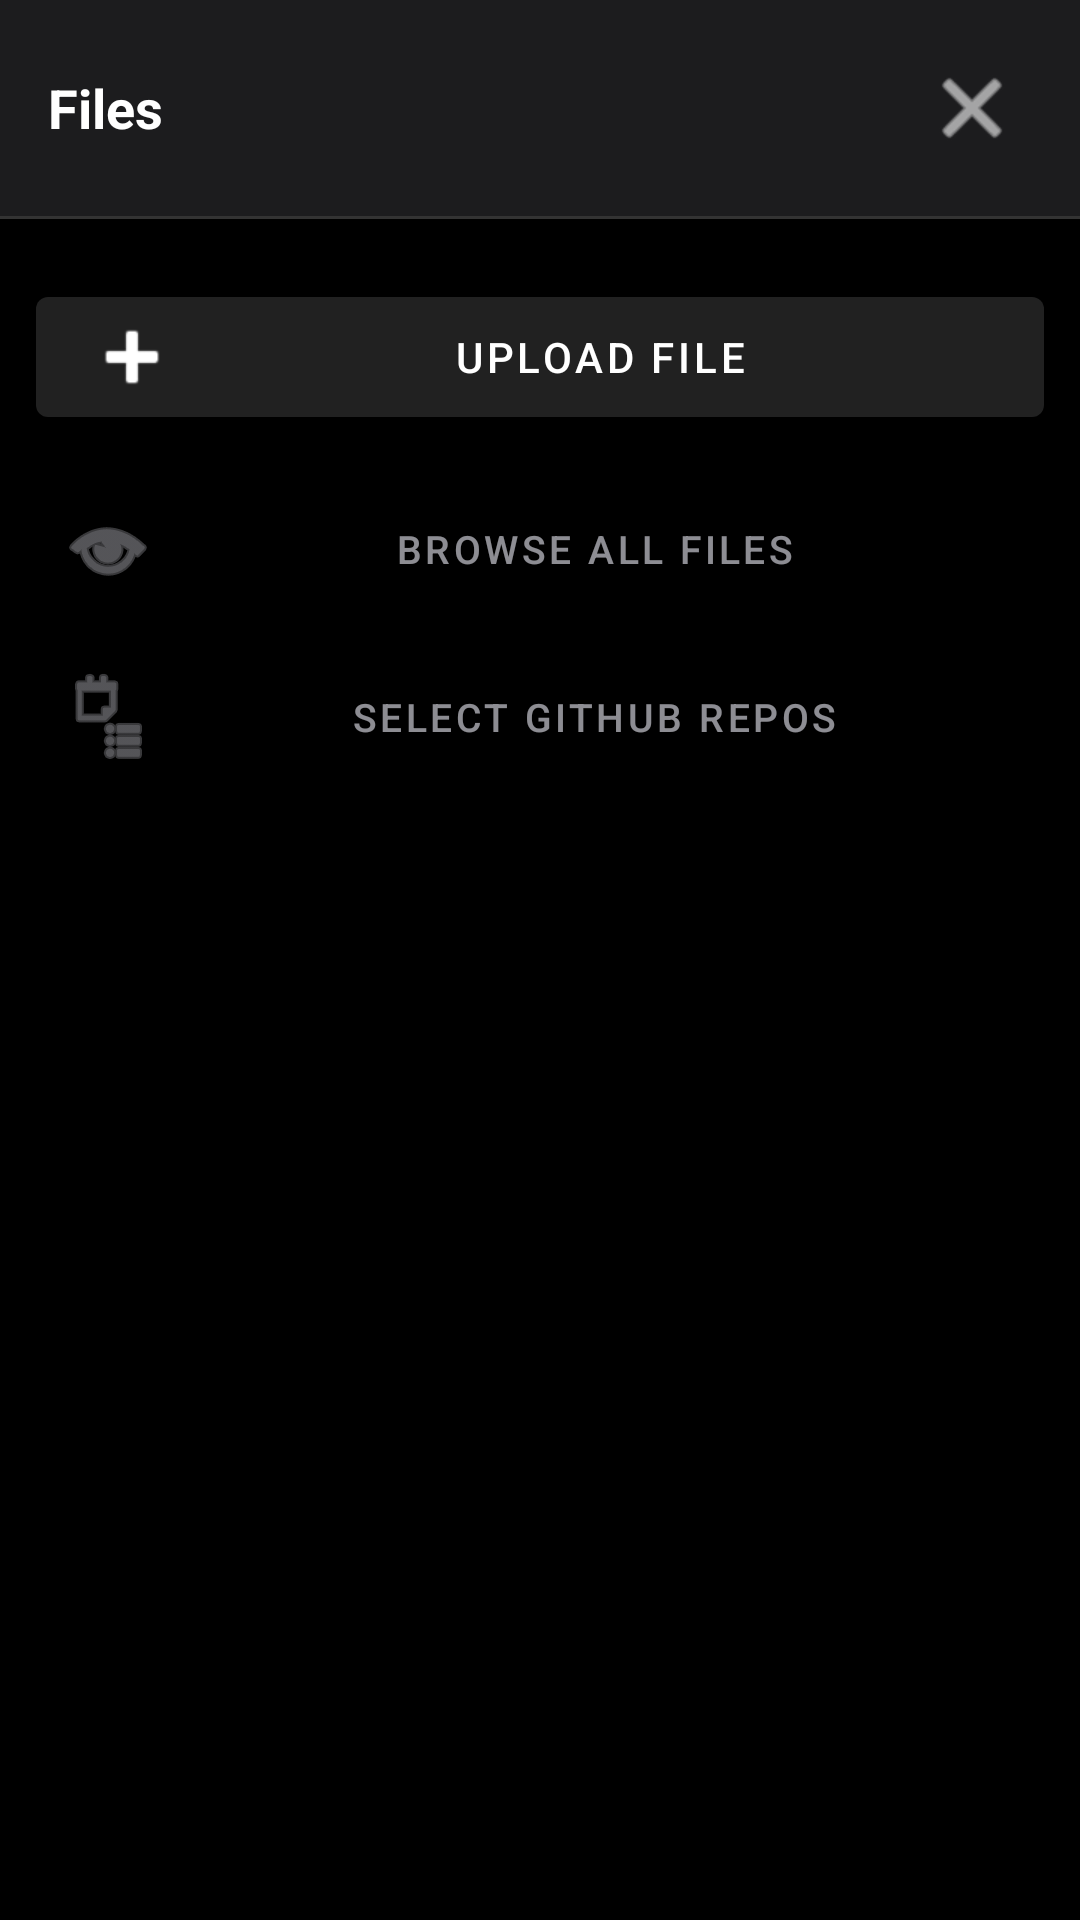

Named icons in this screenshot (1080w x 1920h) and their bounding boxes, detection(x1, y1, x2, y2):
Close: detection(942, 78, 1002, 138)
